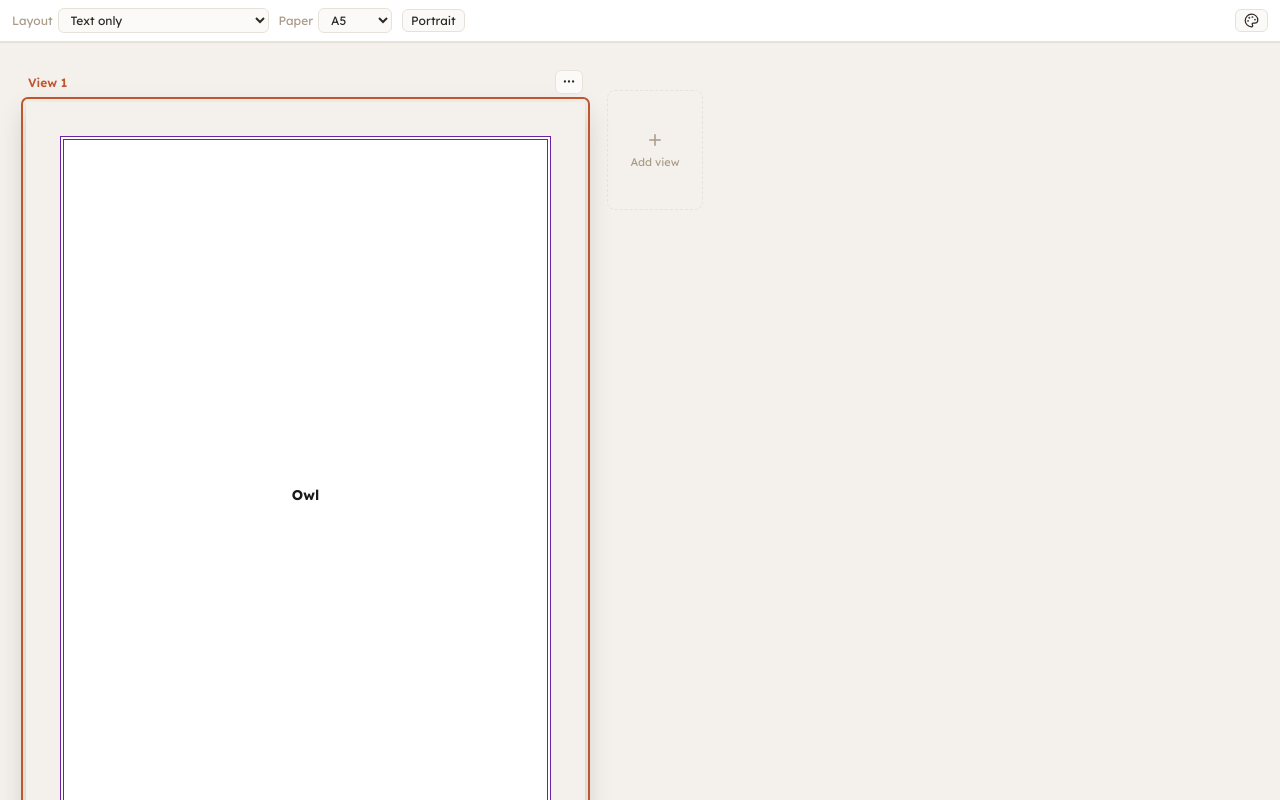
CardPreview — views › Rename (via the ⋯ menu) commits the new name through renameView
The width and height of the screenshot is (1280, 800).
Click the button named "View 1 options": (569, 82) [555,70,583,94]
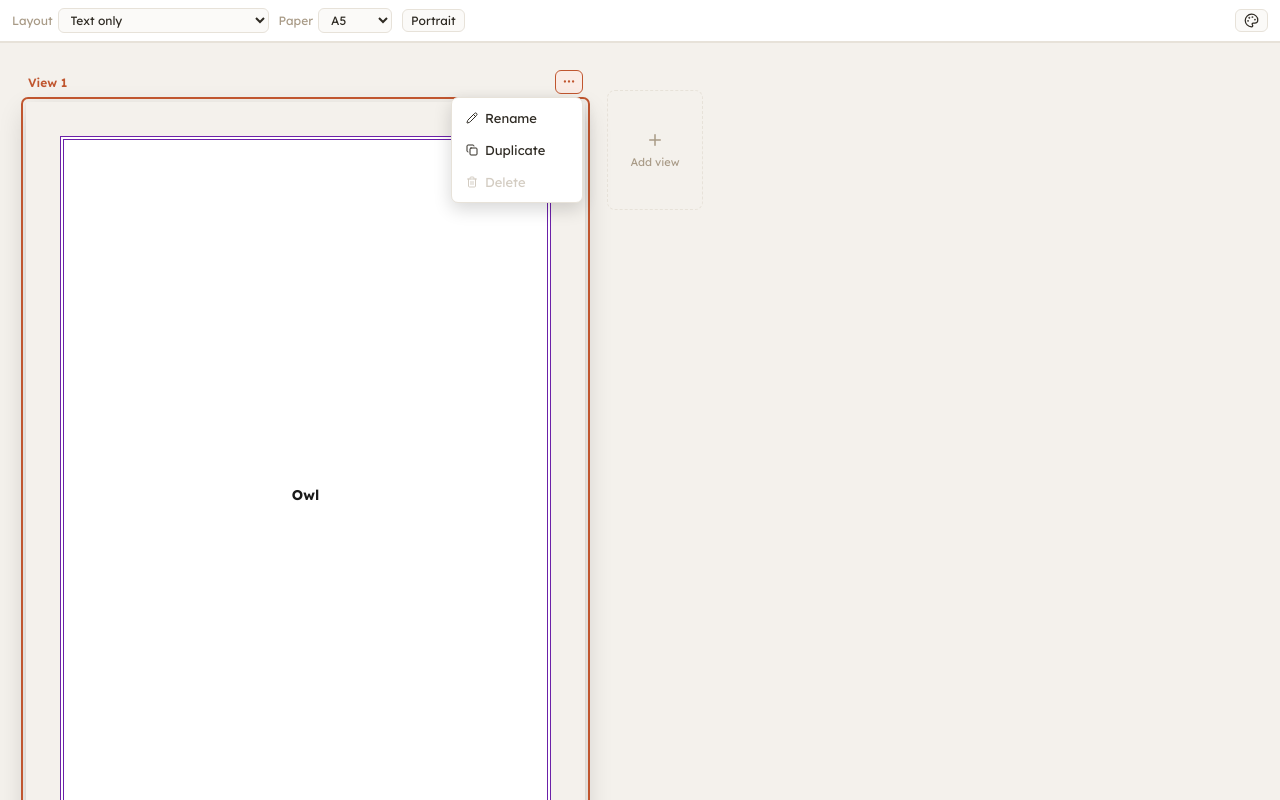
Click the menu item "Rename": (517, 118) [457,103,577,133]
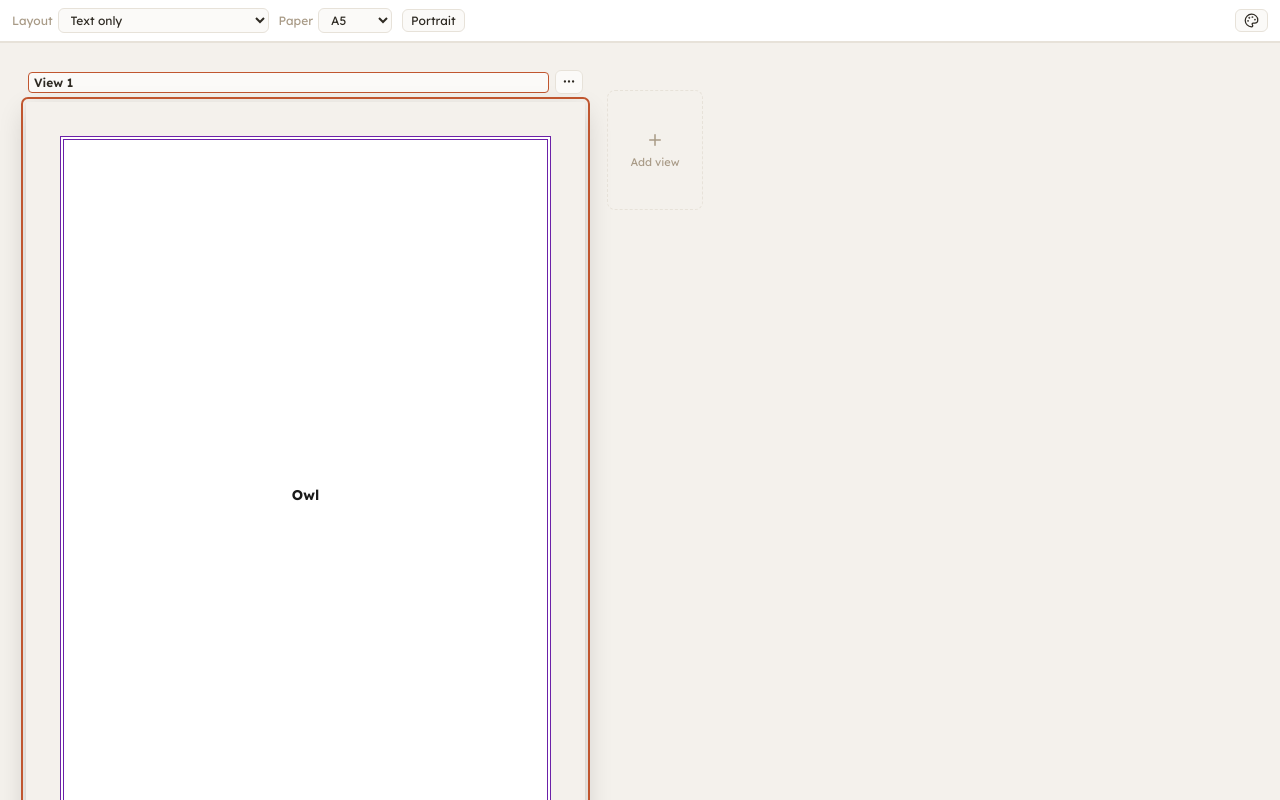
Replace the text in the field named "rename view 1" with "Front": (288, 82) [28,72,549,92]
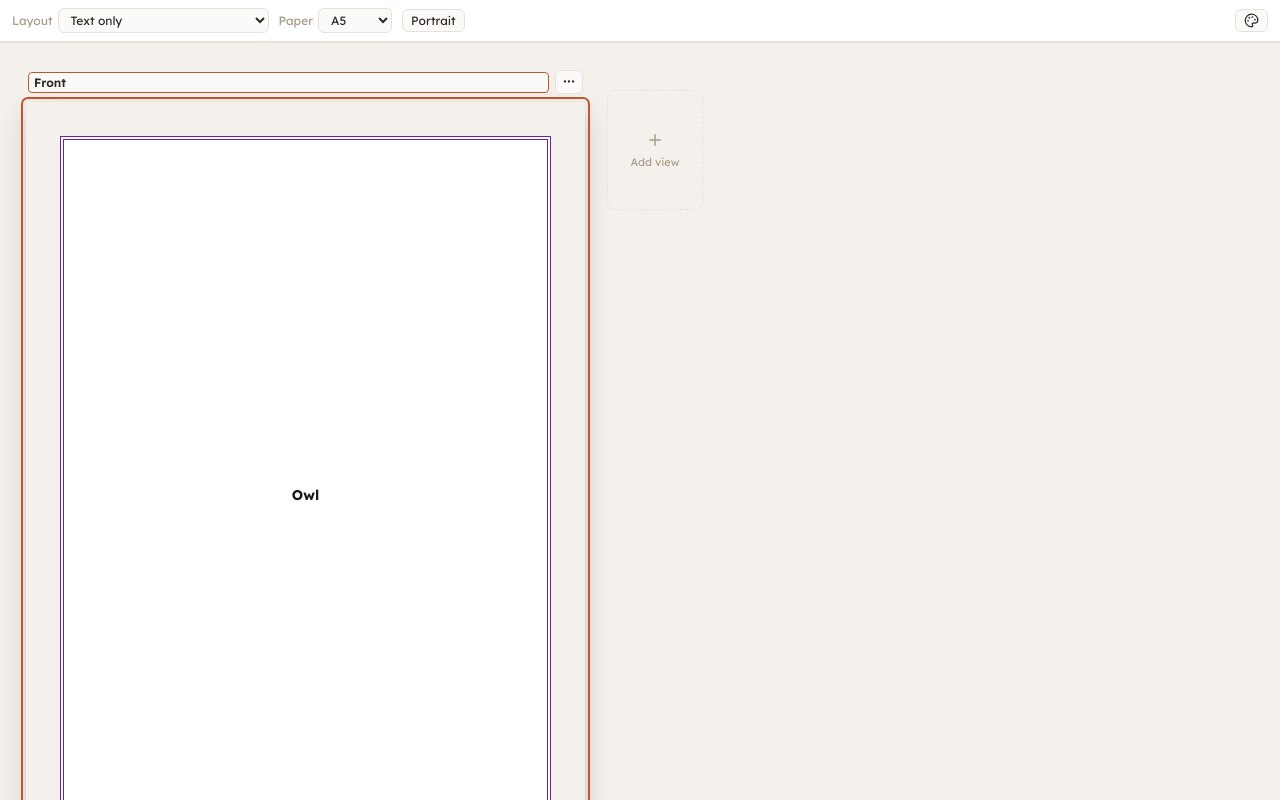
Leave the field named "rename view 1", box [28,72,549,92]
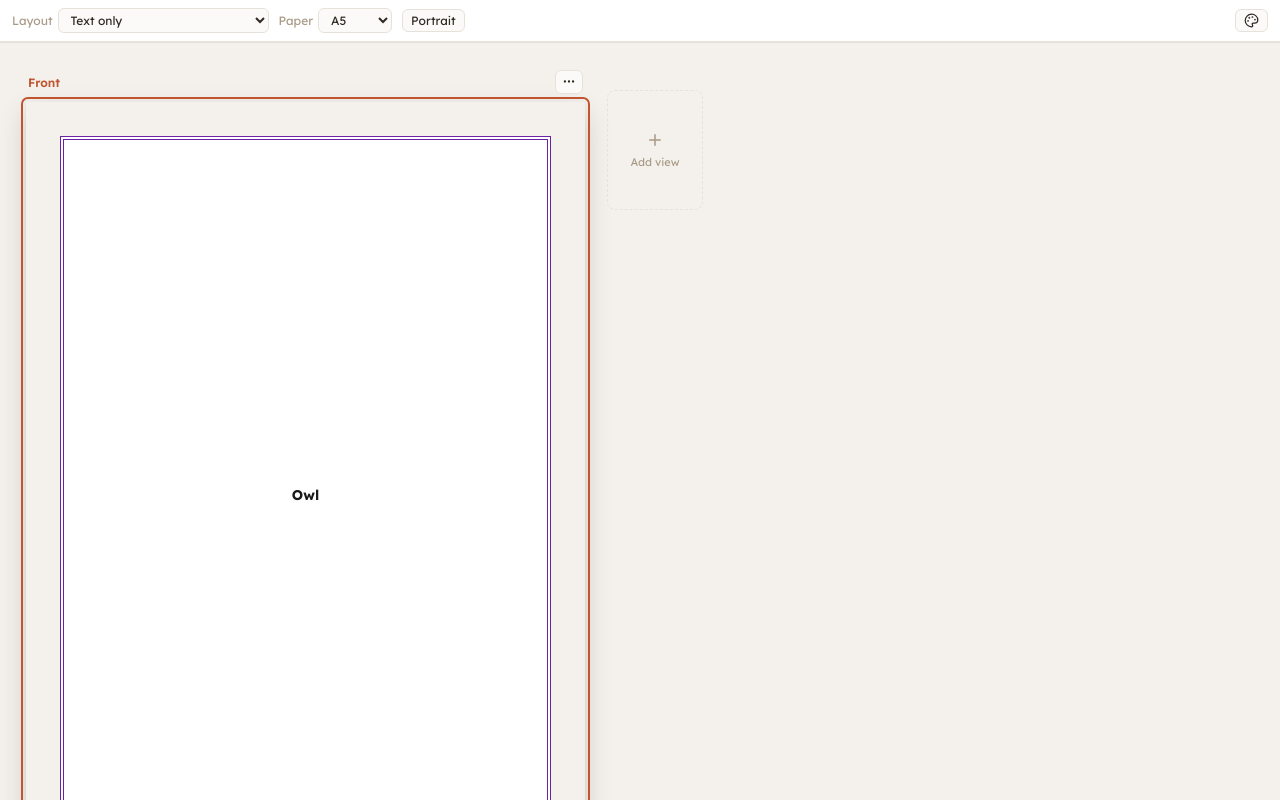
expect the text "Front" is shown: met, box [28,74,60,90]
